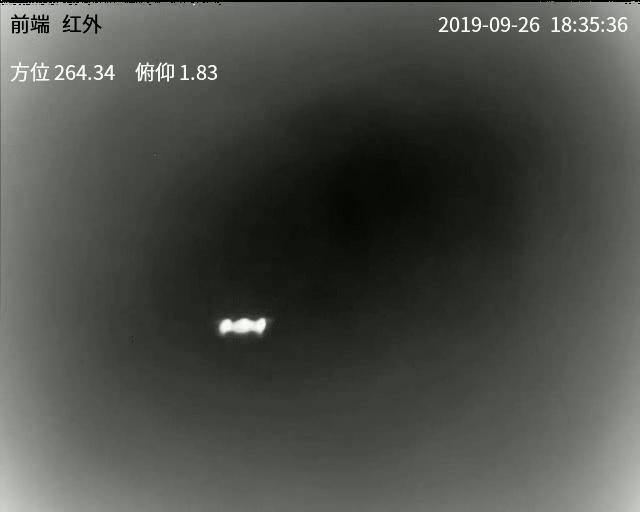DRONE: (218, 317, 267, 336)
